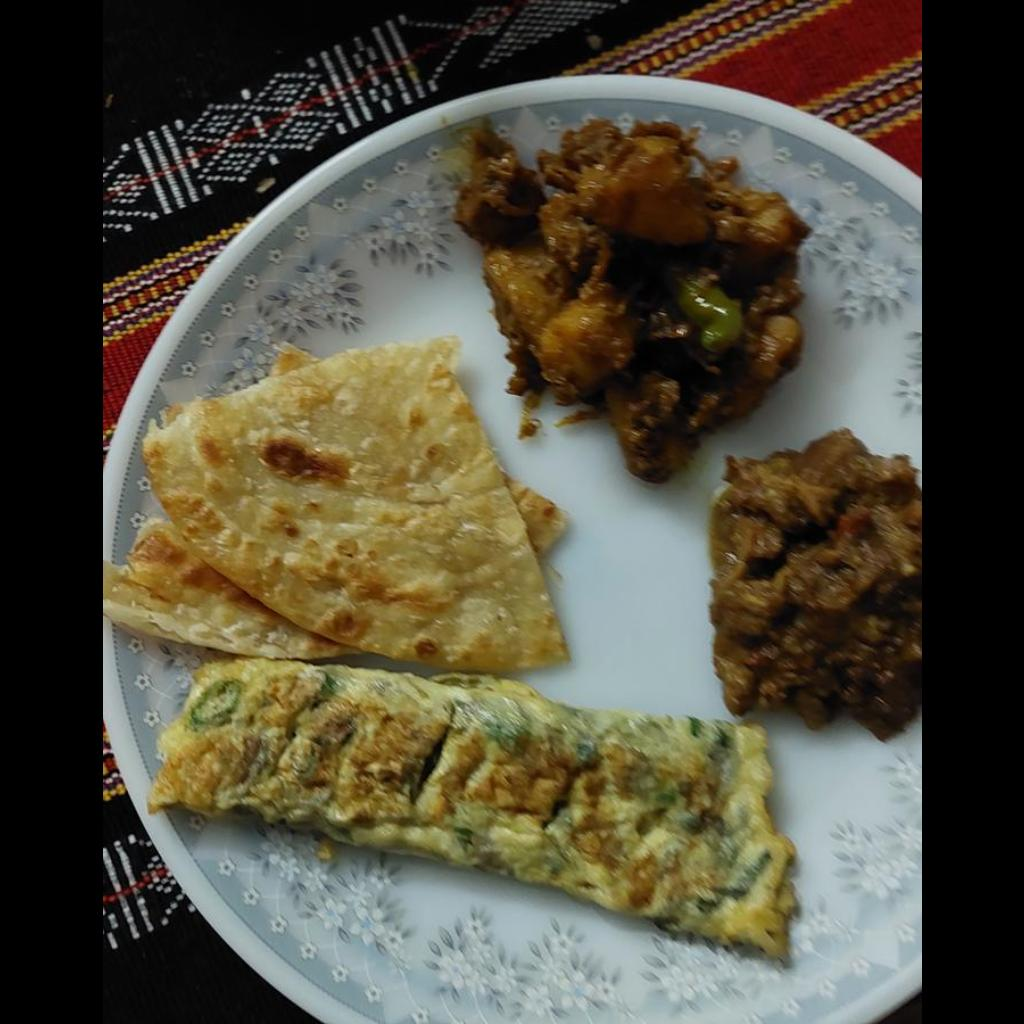egg-poached: (152, 664, 800, 972)
ruti: (102, 329, 568, 665)
vegetable: (455, 133, 804, 492)
vorta: (710, 430, 920, 742)
